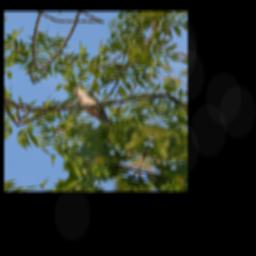Cuckoo: (64, 83, 125, 128)
